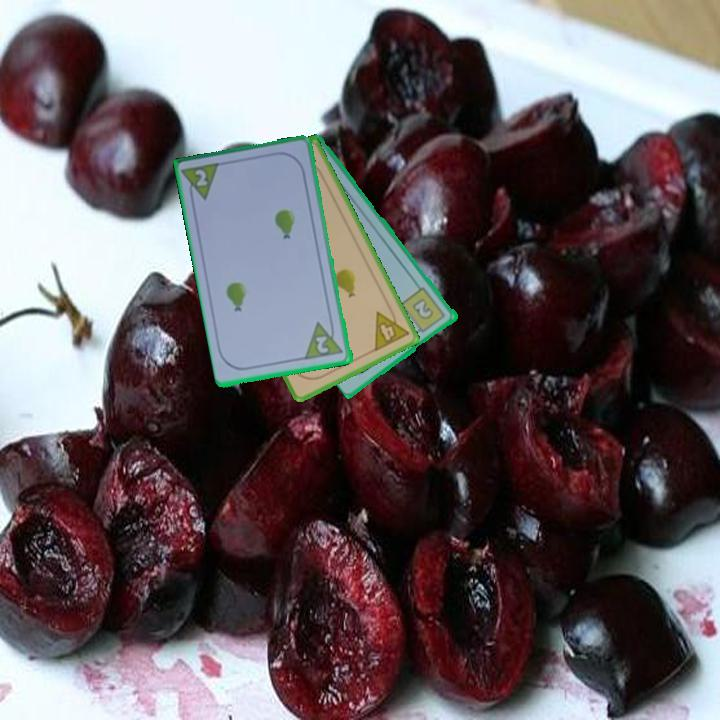2b: (398, 284, 448, 337)
2p: (302, 317, 347, 363), (180, 159, 224, 206)
4p: (371, 302, 412, 354)
